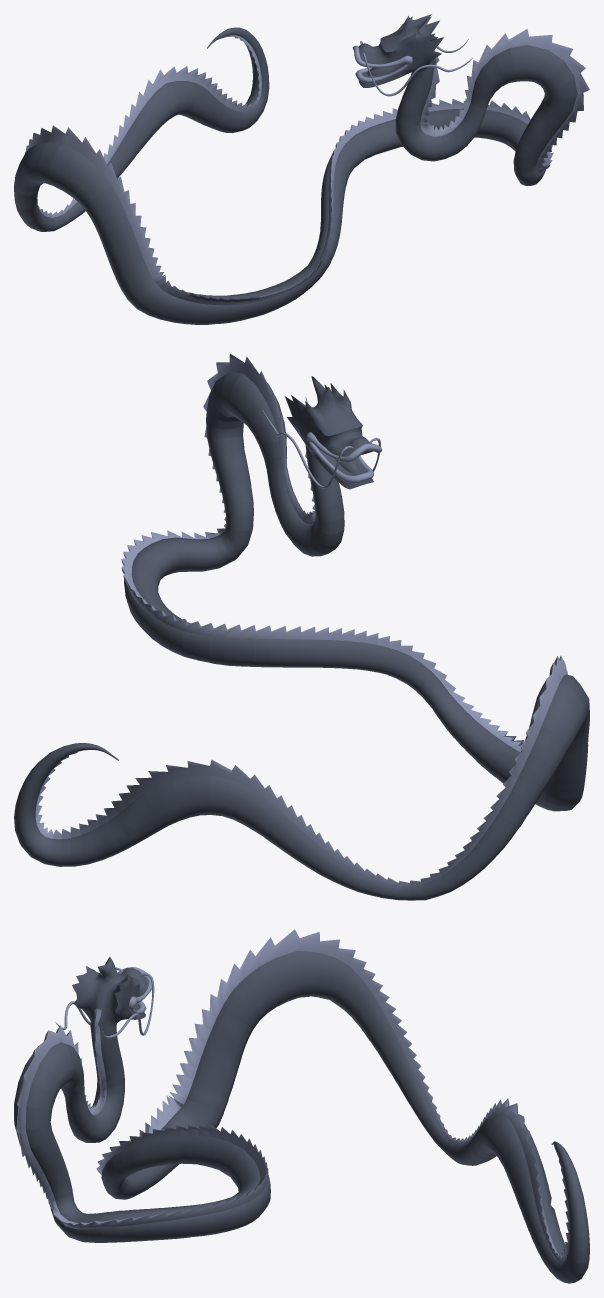
File: dragonCylinder_011.fbx
3 renders of one model, top to bottom at view 1: azimuth 30°, elevation 25°; view 2: azimuth 150°, elevation 25°; view 3: azimuth 270°, elevation 25°, orthographic. The views are drawn at different scales.
Parts seen in each view (by area): view 1: Cylinder.011; view 2: Cylinder.011; view 3: Cylinder.011.
Boxes of the visible parts, bbox=[...] form: Cylinder.011: bbox=[14, 14, 589, 324]; Cylinder.011: bbox=[14, 353, 589, 900]; Cylinder.011: bbox=[14, 929, 589, 1283].
Size of the model in its own units: 1652 by 1010 by 1602.
